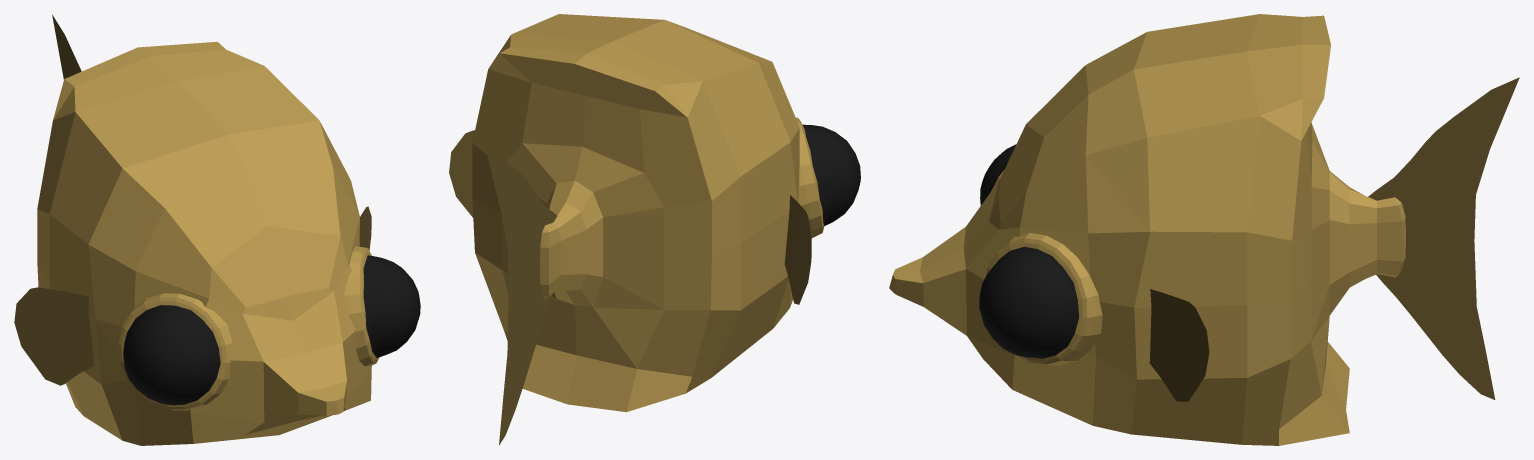
Rendered from tang-yellow.glb.
3 renders of one model, left to right at view 1: azimuth 30°, elevation 25°; view 2: azimuth 150°, elevation 25°; view 3: azimuth 270°, elevation 25°, orthographic. The views are drawn at different scales.
Visible parts, largest first — view 1: YellowTang; view 2: YellowTang; view 3: YellowTang.
Part boxes in pixels (left/top/right/bottom): YellowTang: left=14, top=14, right=420, bottom=445; YellowTang: left=449, top=14, right=860, bottom=445; YellowTang: left=889, top=14, right=1519, bottom=445.
Size of the model in its own units: 3.24 by 2.87 by 4.5.
1 material, 1 textured.
